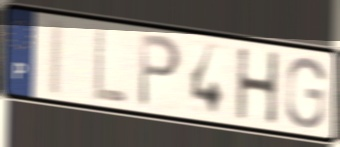4: (189, 40, 227, 118)
G: (284, 56, 328, 131)
H: (236, 46, 282, 127)
I: (46, 17, 66, 100)
L: (92, 25, 129, 106)
P: (136, 30, 183, 111)
